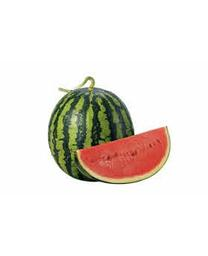watermelon: (51, 87, 171, 185)
